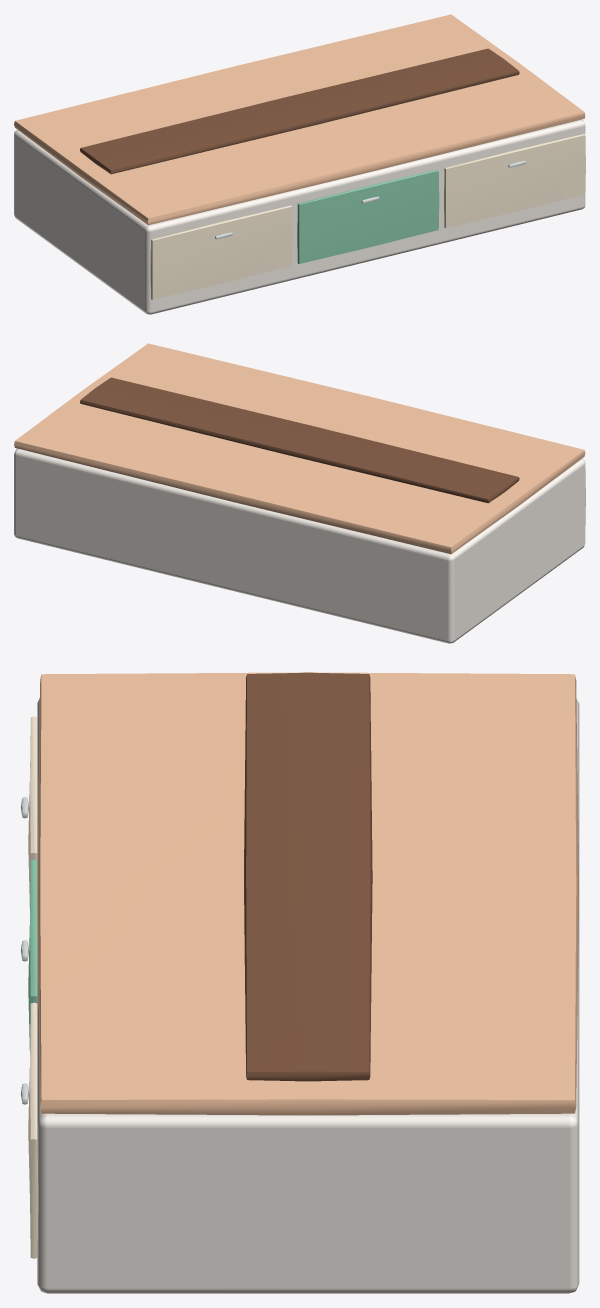
The model's file is spine-left.glb.
3 views of the same model, one above another, from view 1: azimuth 30°, elevation 25°; view 2: azimuth 150°, elevation 25°; view 3: azimuth 270°, elevation 25° (orthographic). The views are drawn at different scales.
Visible parts, largest first — view 1: cabinet-top, cabinet-door (×3), cabinet, planter-inset; view 2: cabinet, cabinet-top, planter-inset; view 3: cabinet-top, cabinet, planter-inset, cabinet-door (×3).
Part boxes in pixels (x1,y1,x2,y2): cabinet-top: [14, 14, 585, 225]; cabinet-door (×3): [150, 134, 585, 299]; cabinet: [14, 119, 585, 314]; planter-inset: [80, 48, 519, 174]; cabinet: [14, 448, 585, 643]; cabinet-top: [14, 343, 585, 553]; planter-inset: [80, 377, 519, 503]; cabinet-top: [37, 672, 579, 1115]; cabinet: [37, 698, 579, 1293]; planter-inset: [244, 672, 372, 1081]; cabinet-door (×3): [28, 716, 38, 1258].
Bounding box in the file's own units: 3 × 0.6925 × 1.65.
1 material, 1 textured.
